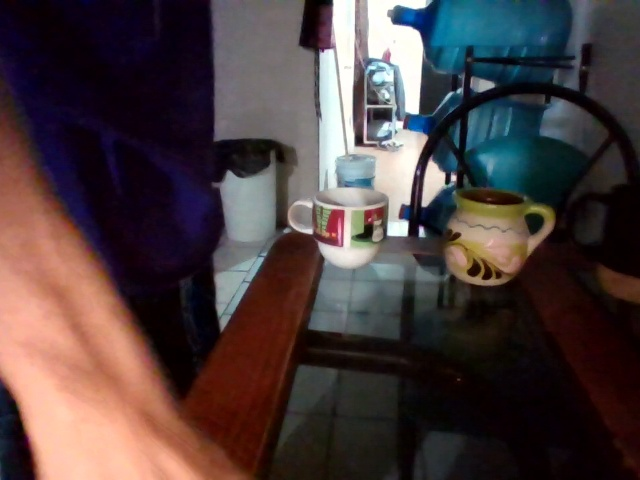taza: (442, 187, 557, 288)
